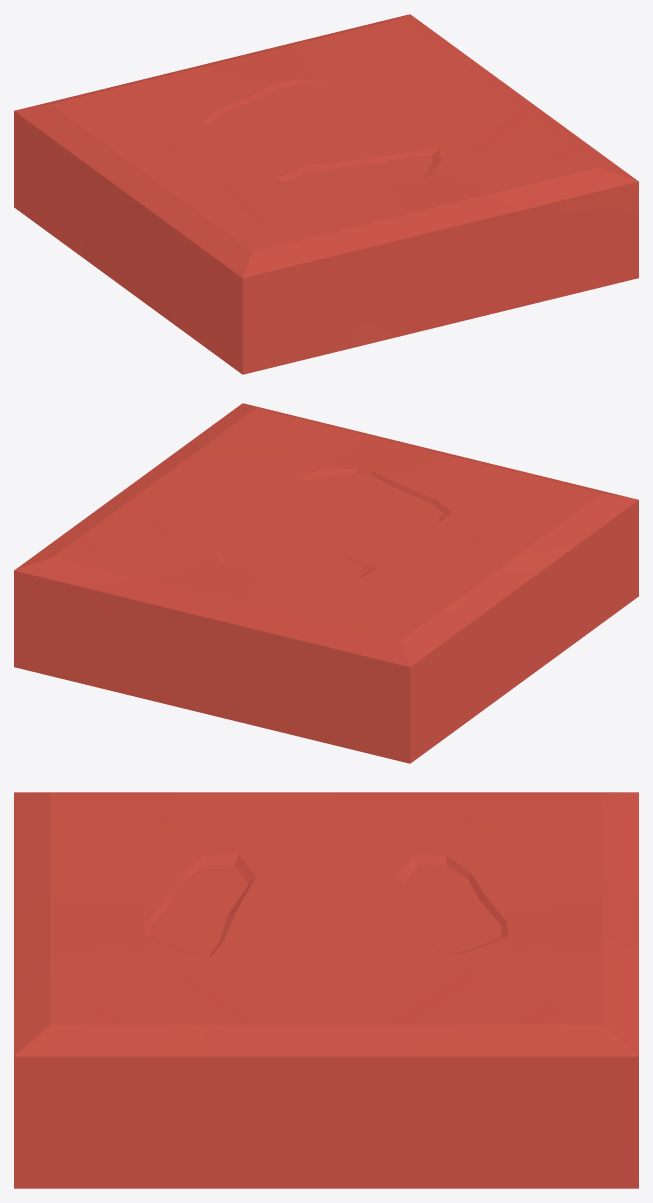
The model's file is lvl1_L_switch1.glb.
3 views of the same model, one above another, from view 1: azimuth 30°, elevation 25°; view 2: azimuth 150°, elevation 25°; view 3: azimuth 270°, elevation 25° (orthographic). The views are drawn at different scales.
Parts seen in each view (by area): view 1: lvl1_light_switch1; view 2: lvl1_light_switch1; view 3: lvl1_light_switch1.
Part boxes in pixels (x1,y1,x2,y2): lvl1_light_switch1: [14, 14, 638, 374]; lvl1_light_switch1: [14, 403, 638, 763]; lvl1_light_switch1: [14, 792, 638, 1188].
Size of the model in its own units: 0.8719 by 0.2256 by 0.8719.
Materials: 1 (1 with a texture image).
